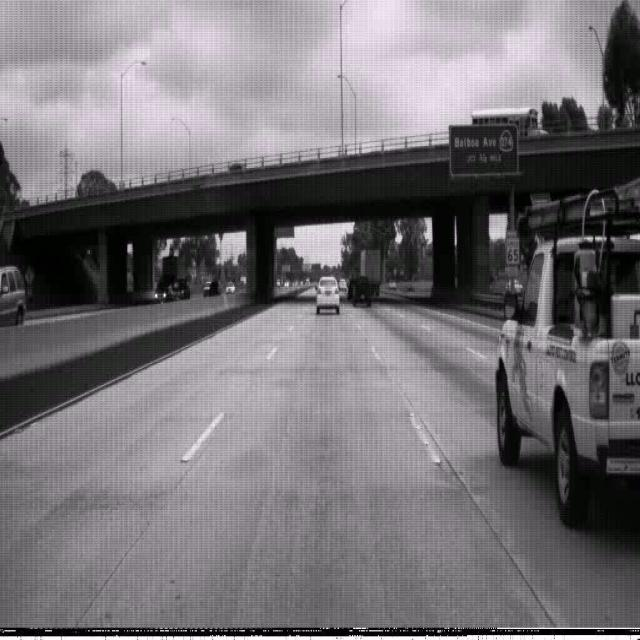speedLimit65: (505, 229, 521, 264)
